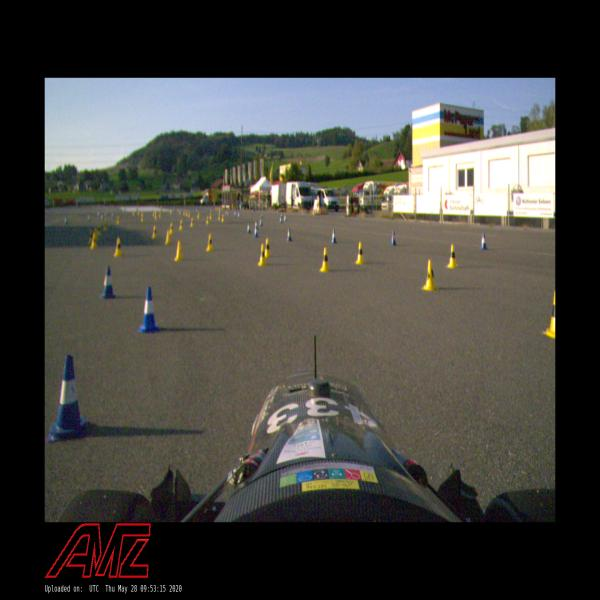blue_cone: (46, 355, 90, 444), (138, 286, 160, 332), (99, 265, 116, 299), (480, 232, 488, 251), (390, 230, 398, 246), (330, 228, 337, 244), (286, 227, 292, 242), (246, 223, 251, 234), (254, 226, 258, 238), (254, 221, 258, 230)
yellow_cone: (543, 287, 555, 339), (421, 260, 436, 291), (447, 243, 458, 268), (257, 243, 268, 266), (320, 248, 330, 271), (355, 241, 365, 264), (174, 241, 182, 261), (114, 238, 122, 256), (206, 235, 213, 252), (264, 238, 271, 254), (91, 234, 98, 250), (165, 230, 171, 245), (152, 225, 157, 239)
